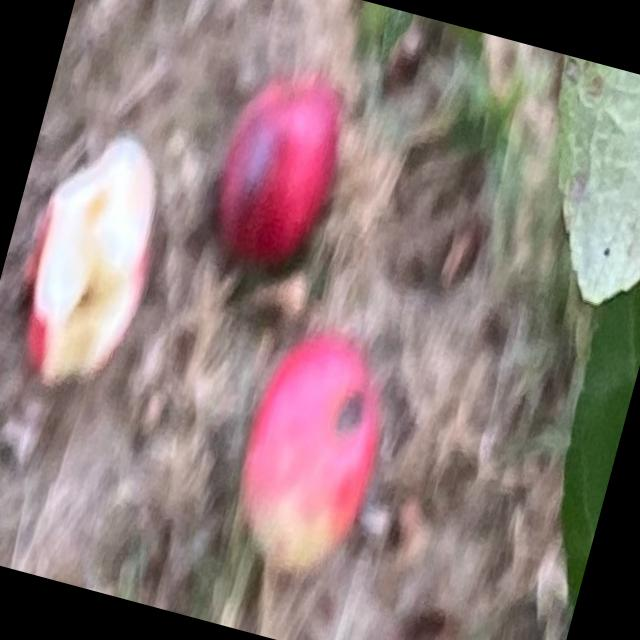Apples: (1, 124, 178, 398), (220, 326, 400, 582), (204, 67, 352, 273)
